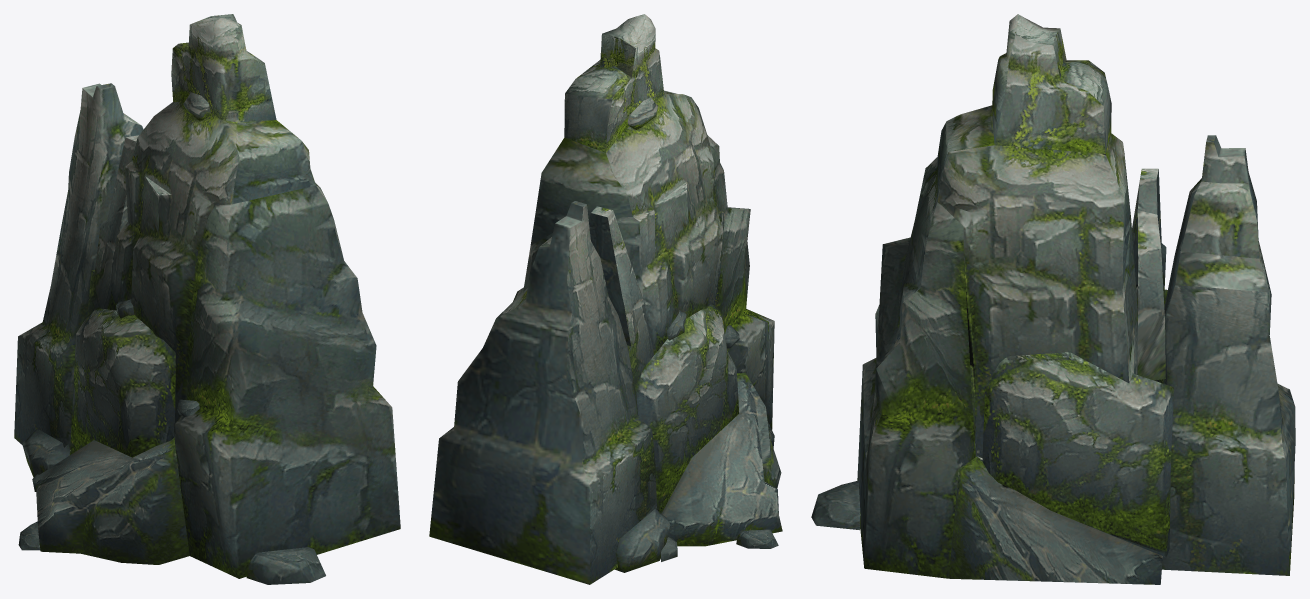
The model's file is xl_shitou_5.FBX.
The picture shows the model from 3 angles, left to right: view 1: azimuth 30°, elevation 25°; view 2: azimuth 150°, elevation 25°; view 3: azimuth 270°, elevation 25°; orthographic projection. The views are drawn at different scales.
Visible parts, largest first — view 1: xl_shitou_5; view 2: xl_shitou_5; view 3: xl_shitou_5.
Boxes of the visible parts, box(x1,y1,x2,y2) form: xl_shitou_5: box(14, 14, 400, 584); xl_shitou_5: box(429, 14, 782, 584); xl_shitou_5: box(811, 14, 1295, 584).
Size of the model in its own units: 7474 by 10509 by 12695.
